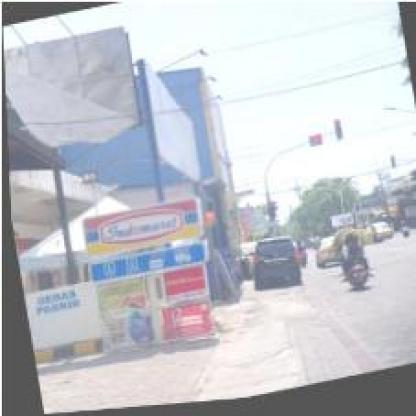red: (332, 122, 342, 142), (264, 204, 271, 224), (413, 171, 415, 196)
